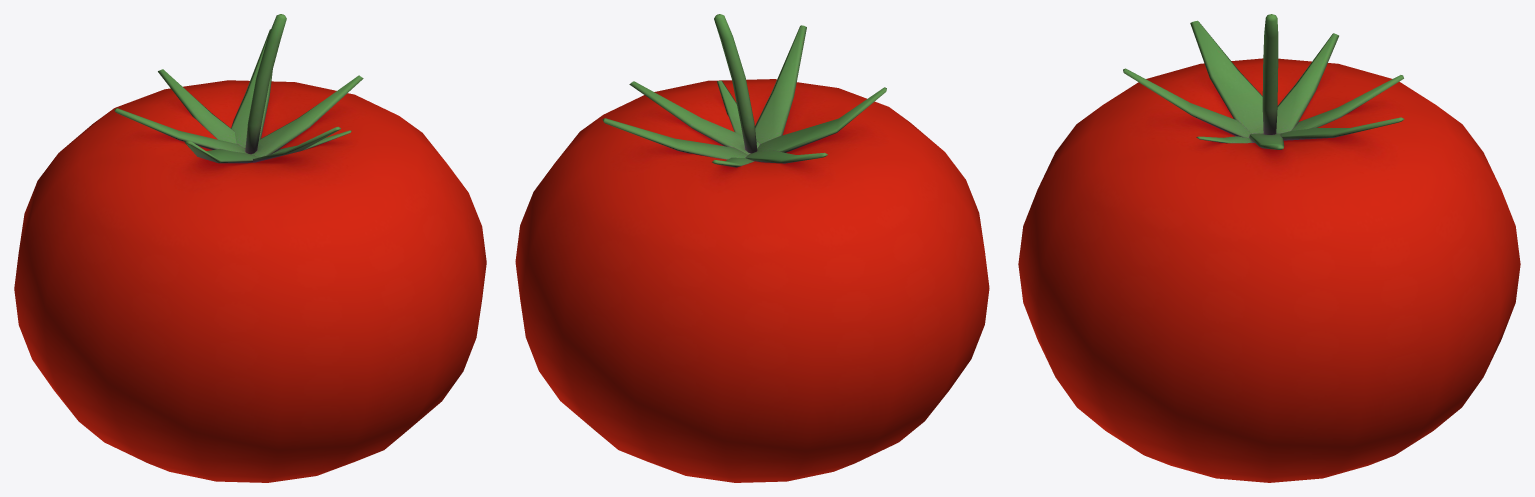
File: Tomato_Visual.glb
The picture shows the model from 3 angles, left to right: view 1: azimuth 30°, elevation 25°; view 2: azimuth 150°, elevation 25°; view 3: azimuth 270°, elevation 25°; orthographic projection. The views are drawn at different scales.
Parts seen in each view (by area): view 1: Tomato; view 2: Tomato; view 3: Tomato.
Boxes of the visible parts, x1=… form: Tomato: x1=14, y1=14, x2=486, y2=482; Tomato: x1=515, y1=14, x2=989, y2=482; Tomato: x1=1018, y1=14, x2=1520, y2=482.
Bounding box in the file's own units: 0.5998 × 0.5926 × 0.5998.
1 material, 1 textured.
